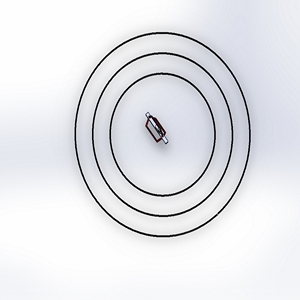circle: (68, 27, 258, 242)
submarine: (137, 104, 176, 152)
